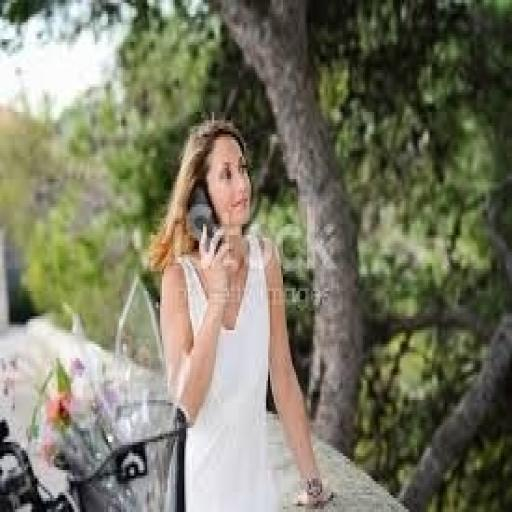calling: (147, 115, 331, 509)
